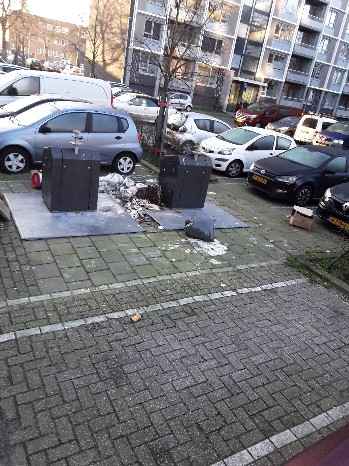Container: (39, 145, 81, 206), (170, 153, 210, 216)
Rest: (116, 171, 160, 211), (181, 225, 220, 247)
Voertuig: (8, 63, 137, 158), (26, 90, 130, 155), (243, 123, 331, 183), (16, 59, 92, 120), (194, 114, 271, 172), (248, 89, 300, 142), (171, 108, 229, 152), (311, 107, 349, 164), (111, 72, 157, 117), (298, 194, 349, 222), (175, 84, 199, 109)
